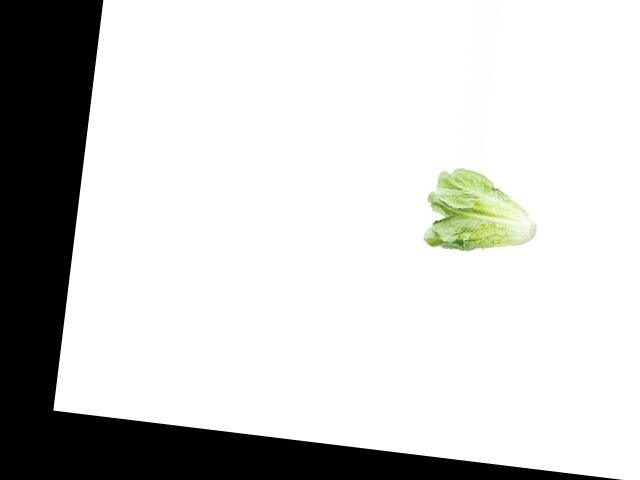lettuce: (421, 165, 545, 261)
